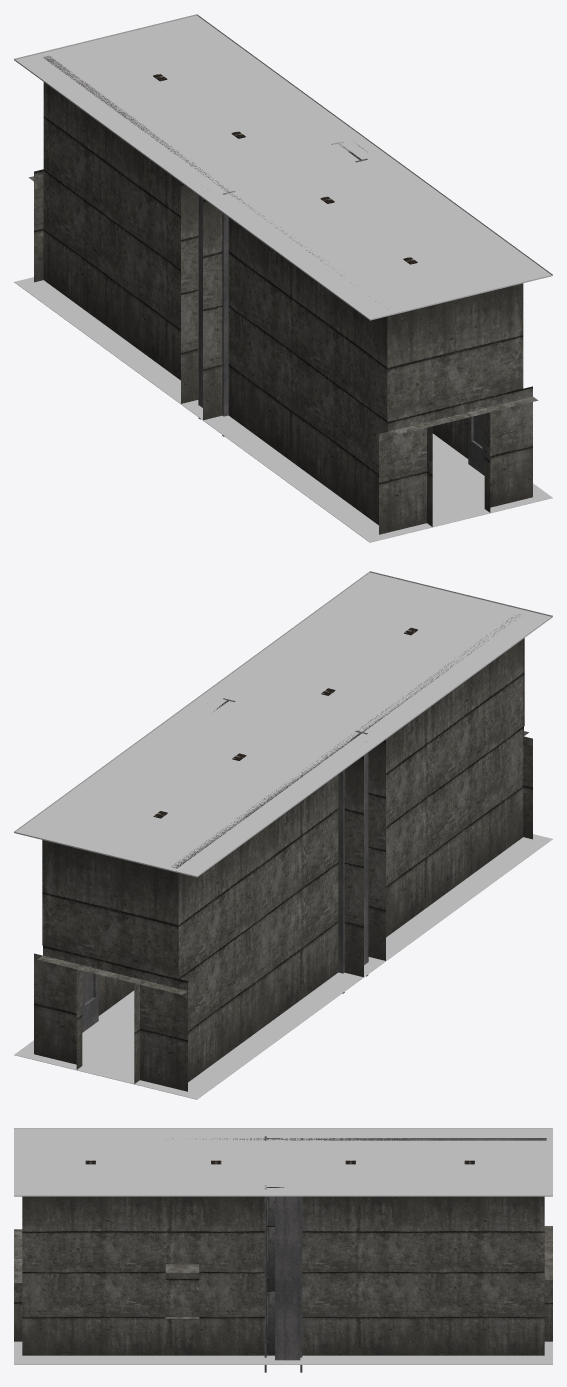
Rendered from HC_room2_tesla.obj.
3 renders of one model, top to bottom at view 1: azimuth 30°, elevation 25°; view 2: azimuth 150°, elevation 25°; view 3: azimuth 270°, elevation 25°, orthographic. The views are drawn at different scales.
Visible parts, largest first — view 1: room2tesla_hcz; view 2: room2tesla_hcz; view 3: room2tesla_hcz.
Part boxes in pixels (<box>): room2tesla_hcz: <box>14,14,552,542</box>; room2tesla_hcz: <box>14,571,552,1099</box>; room2tesla_hcz: <box>14,1128,552,1372</box>.
Bounding box in the file's own units: 6.08 × 7.72 × 20.48.
